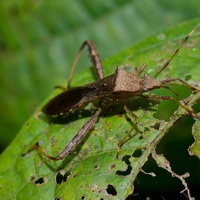insect: (21, 21, 199, 171), (55, 178, 118, 199)
